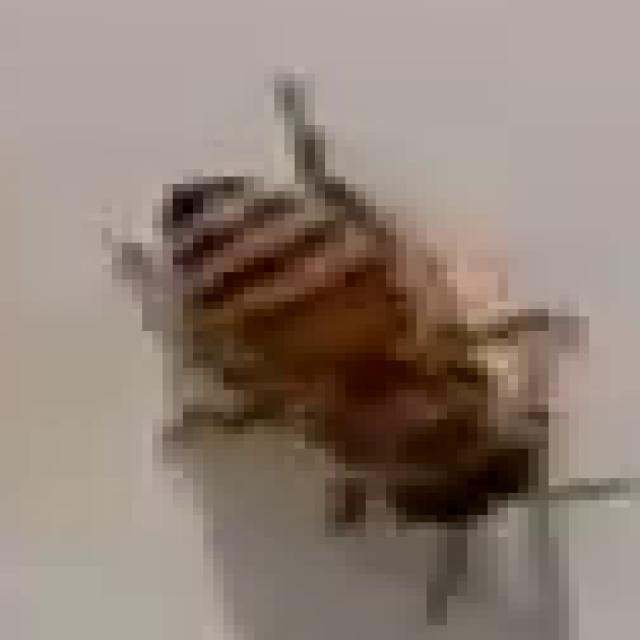honeybee: (83, 86, 573, 554)
